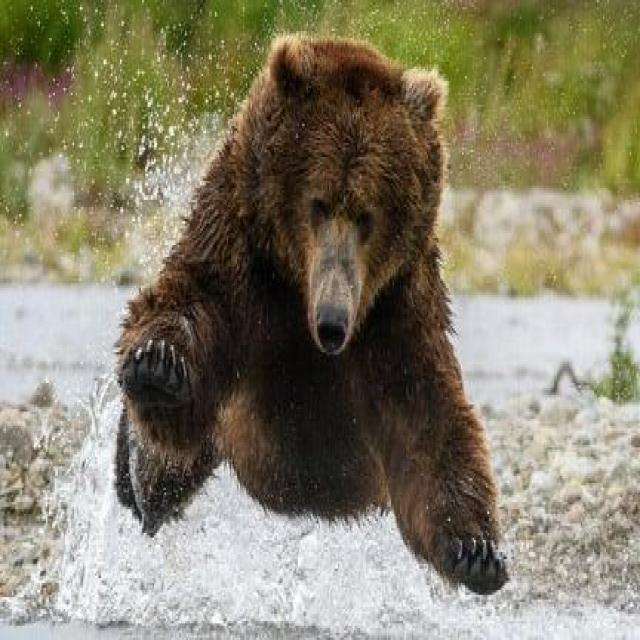Bear: (113, 36, 510, 600)
